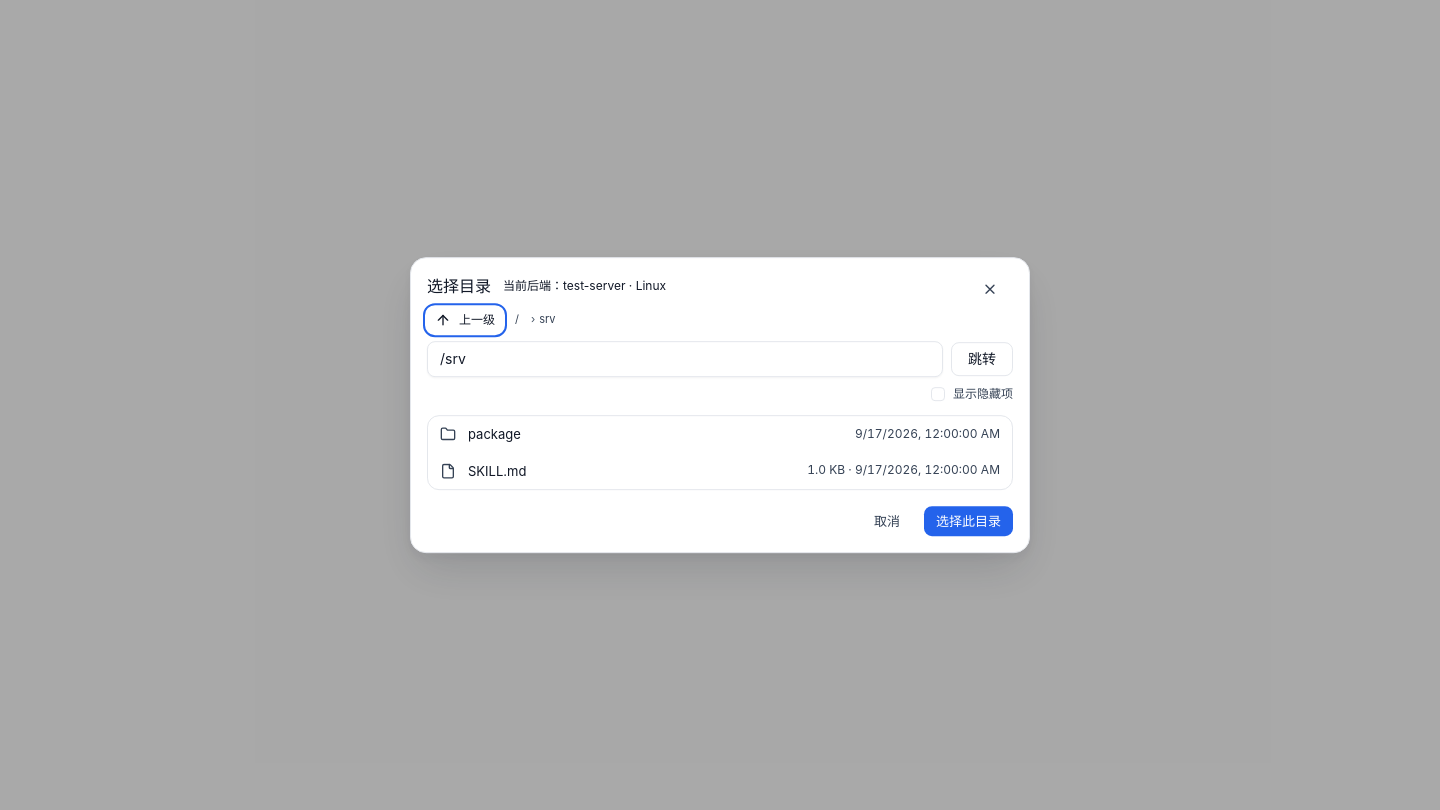
选中行才出「重命名」钮，慢击名字也进原地改名
The width and height of the screenshot is (1440, 810).
Step 1. Click the button "package" → {"x": 494, "y": 435}, box [440,425,843,445]
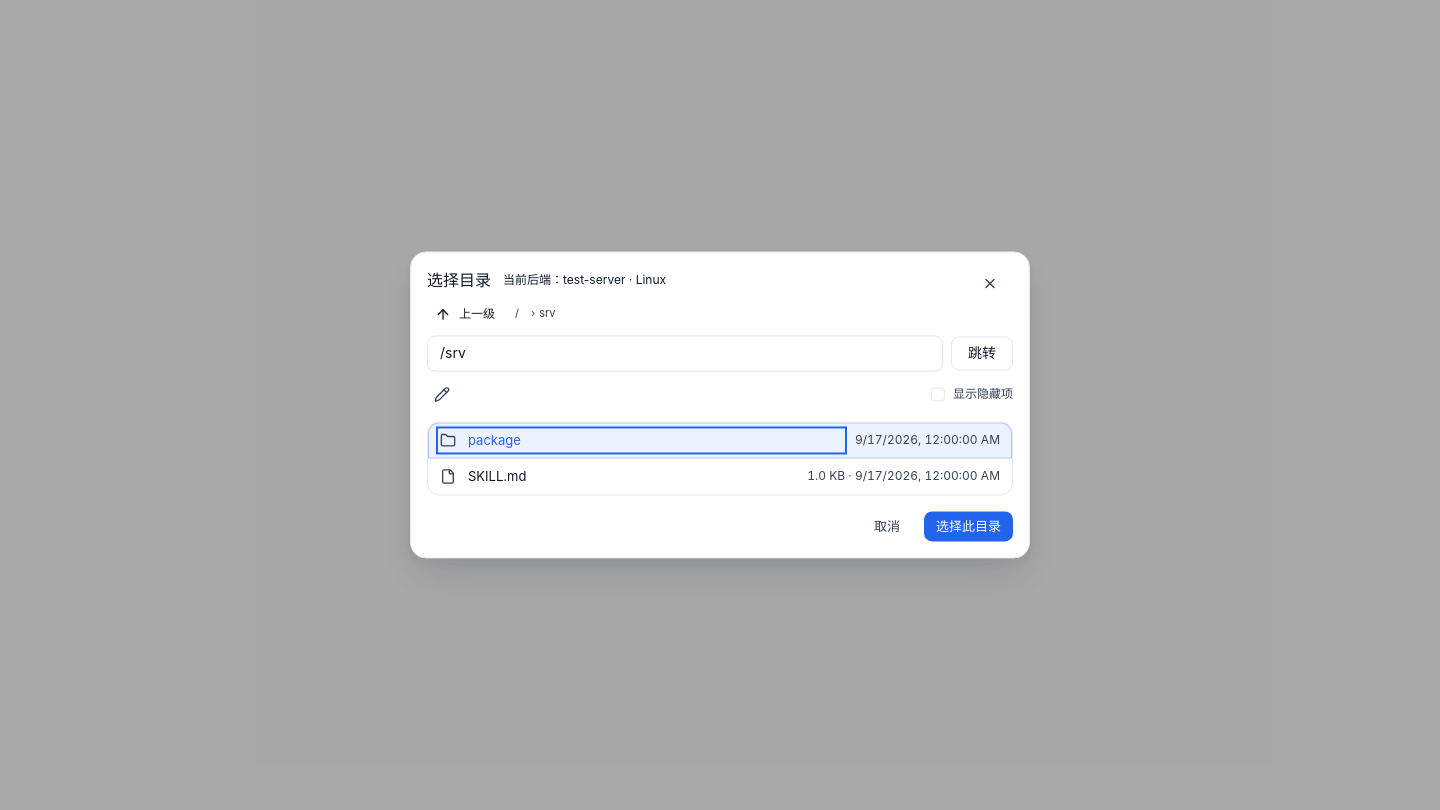
Step 2. Click the button named "重命名" → {"x": 442, "y": 394}, box [427,379,457,409]
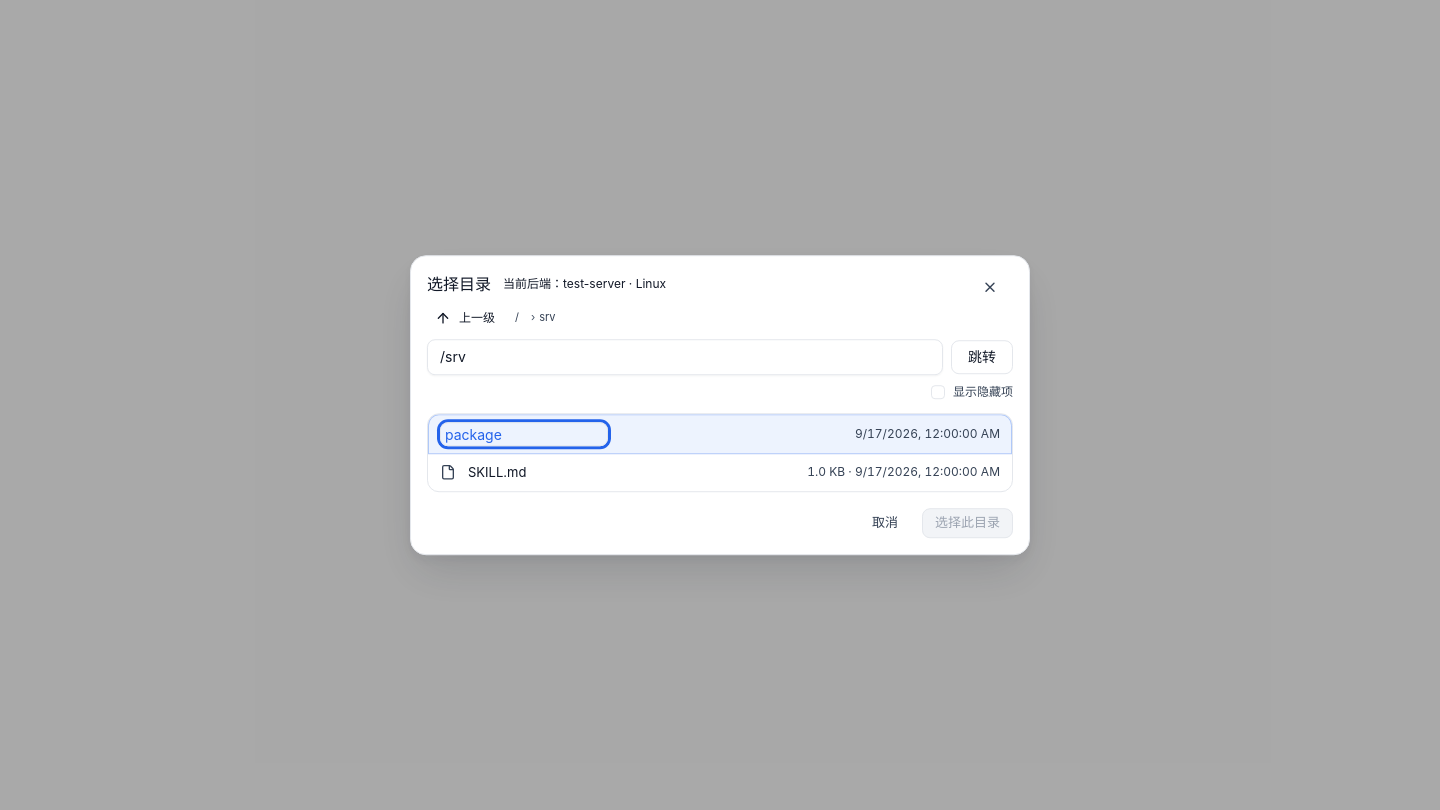
Expected: the field named "重命名 package" holds "package", [440,423,608,447]
